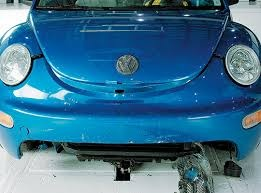Smashed: (14, 135, 241, 177)
